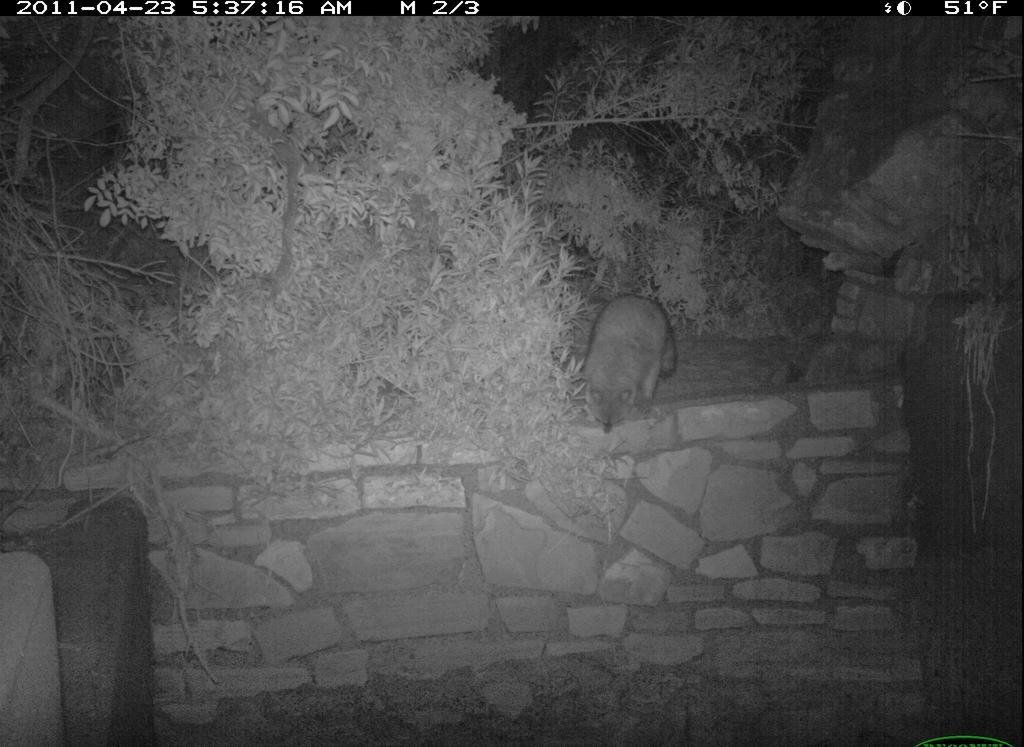raccoon: (566, 276, 693, 447)
